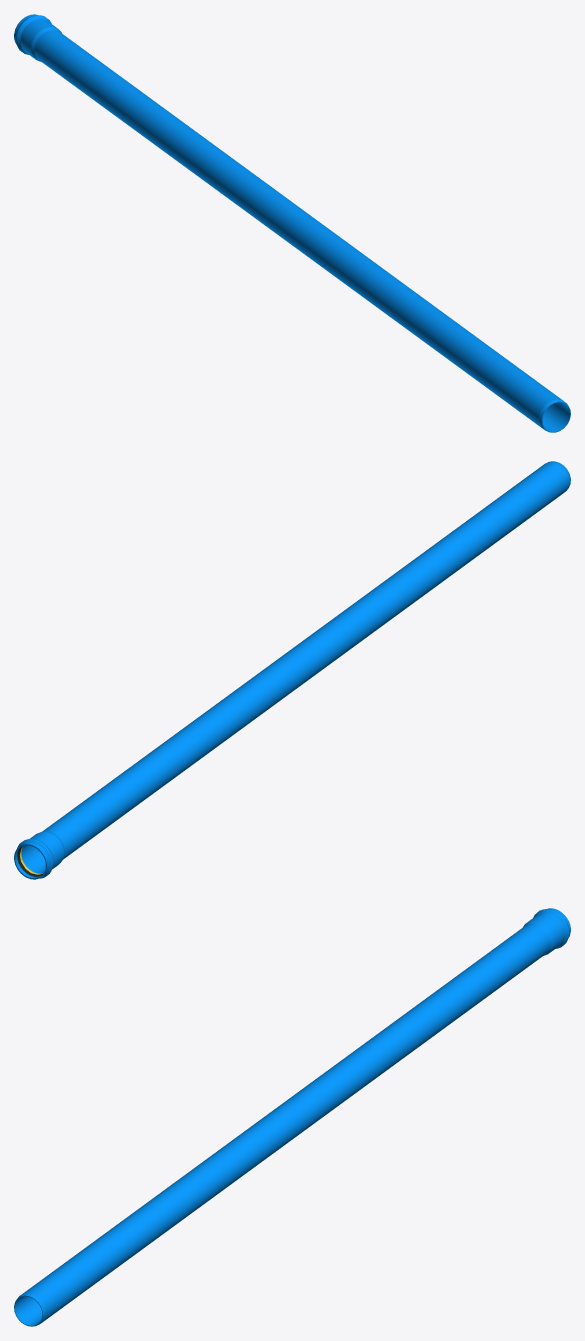
Rendered from BlueForce.glb.
3 views of the same model, one above another, from view 1: azimuth 30°, elevation 25°; view 2: azimuth 150°, elevation 25°; view 3: azimuth 330°, elevation 25° (orthographic).
Visible parts, largest first — view 1: BlueForce; view 2: BlueForce; view 3: BlueForce.
Boxes of the visible parts, x1,y1,x2,y2 form: BlueForce: [14, 14, 570, 432]; BlueForce: [14, 461, 570, 879]; BlueForce: [14, 908, 570, 1326].
Size of the model in its own units: 0.2417 by 0.2417 by 6.
1 material, 1 textured.
